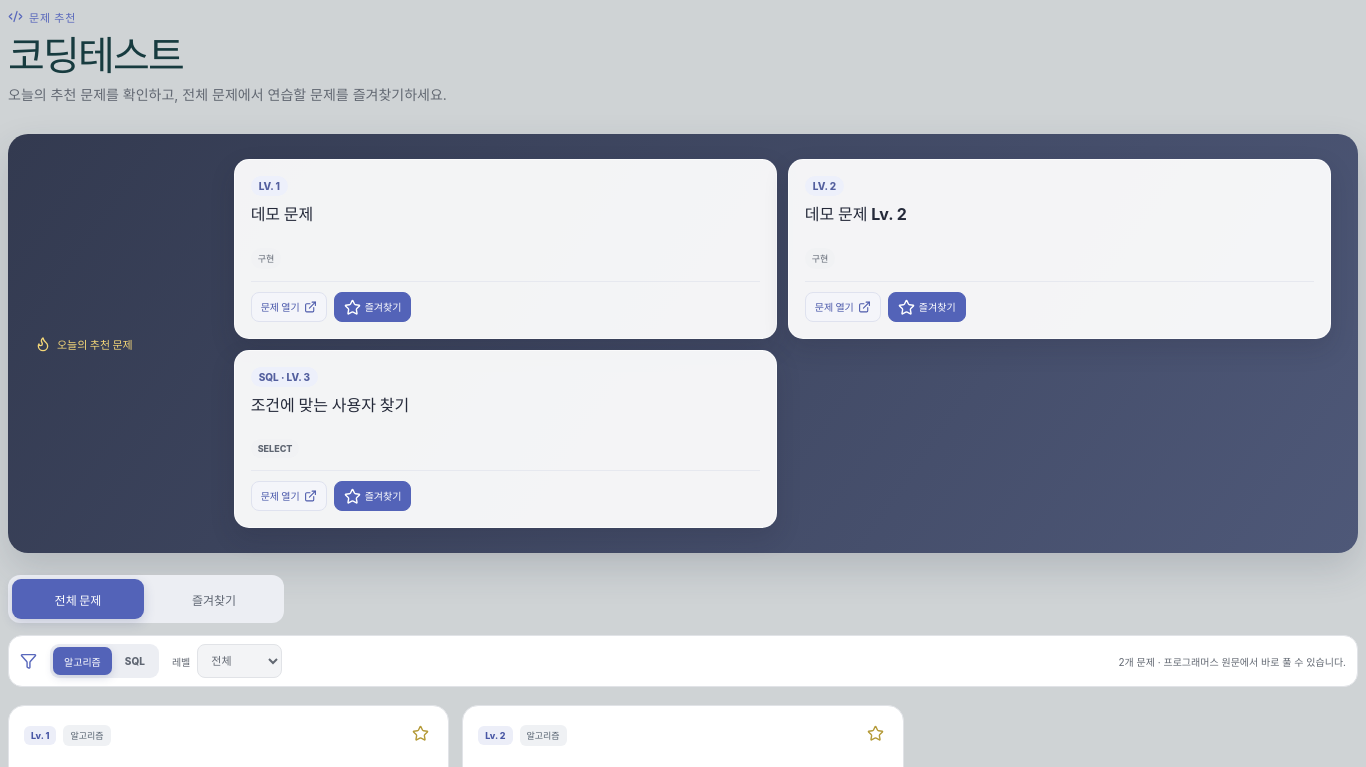
Test: CodingPage › offers only recommendations, the full catalog, and durable favorites
Check: the number of links "문제 열기" is 3, box [251, 292, 327, 322]; [805, 292, 881, 322]; [251, 481, 327, 511]
Check: the number of buttons "즐겨찾기" is 3, box [334, 292, 411, 322]; [888, 292, 966, 322]; [334, 481, 411, 511]
Click the button named "데모 문제 즐겨찾기": (421, 736) [408, 721, 433, 750]
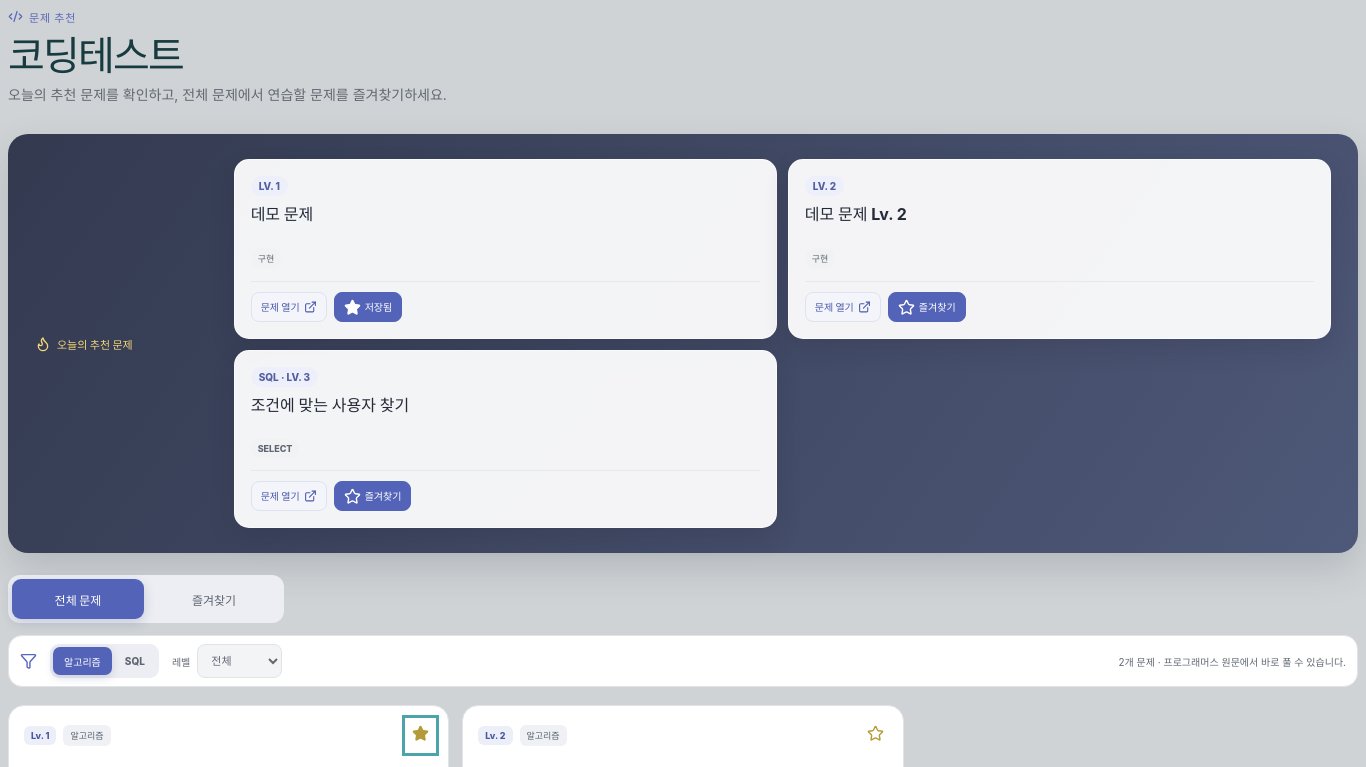
Click the 3rd button "즐겨찾기": (214, 599) [148, 579, 280, 619]
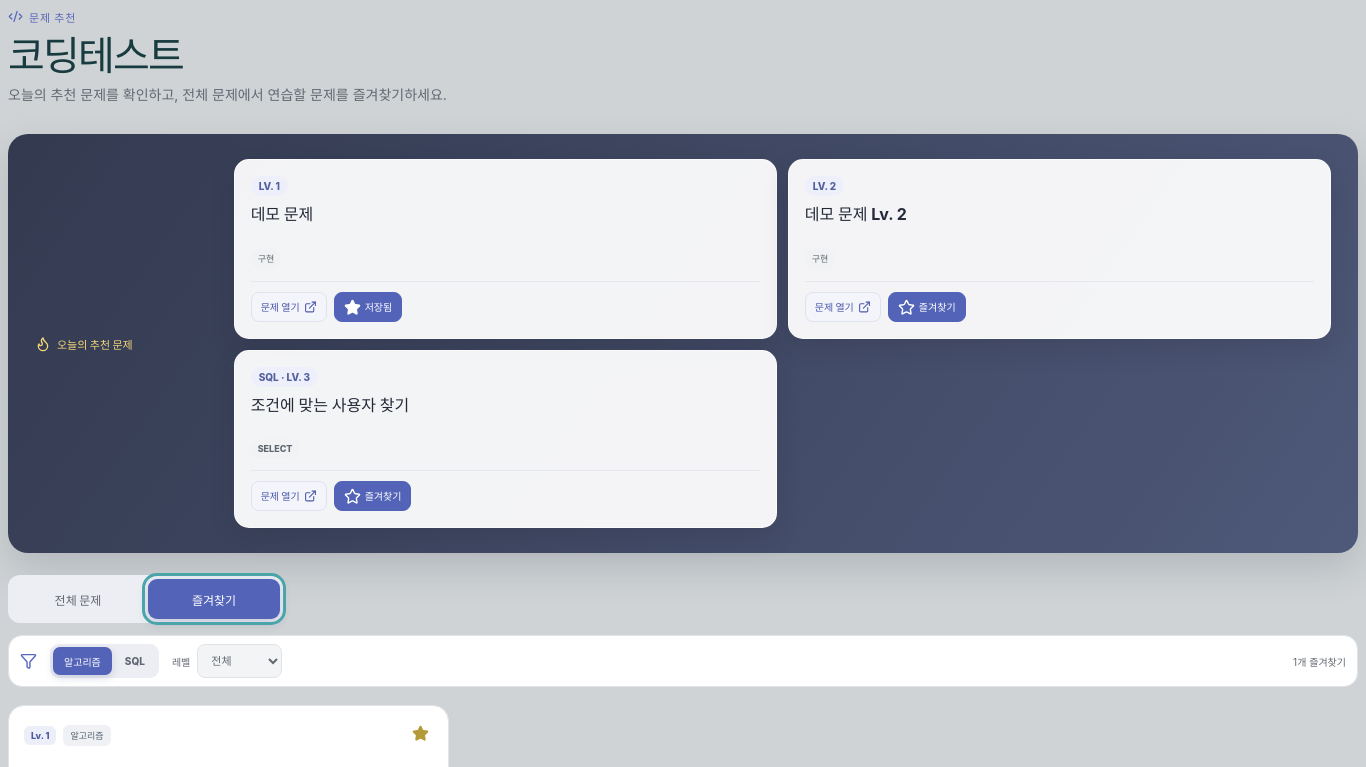
Click the button "전체 문제": (78, 599) [12, 579, 144, 619]
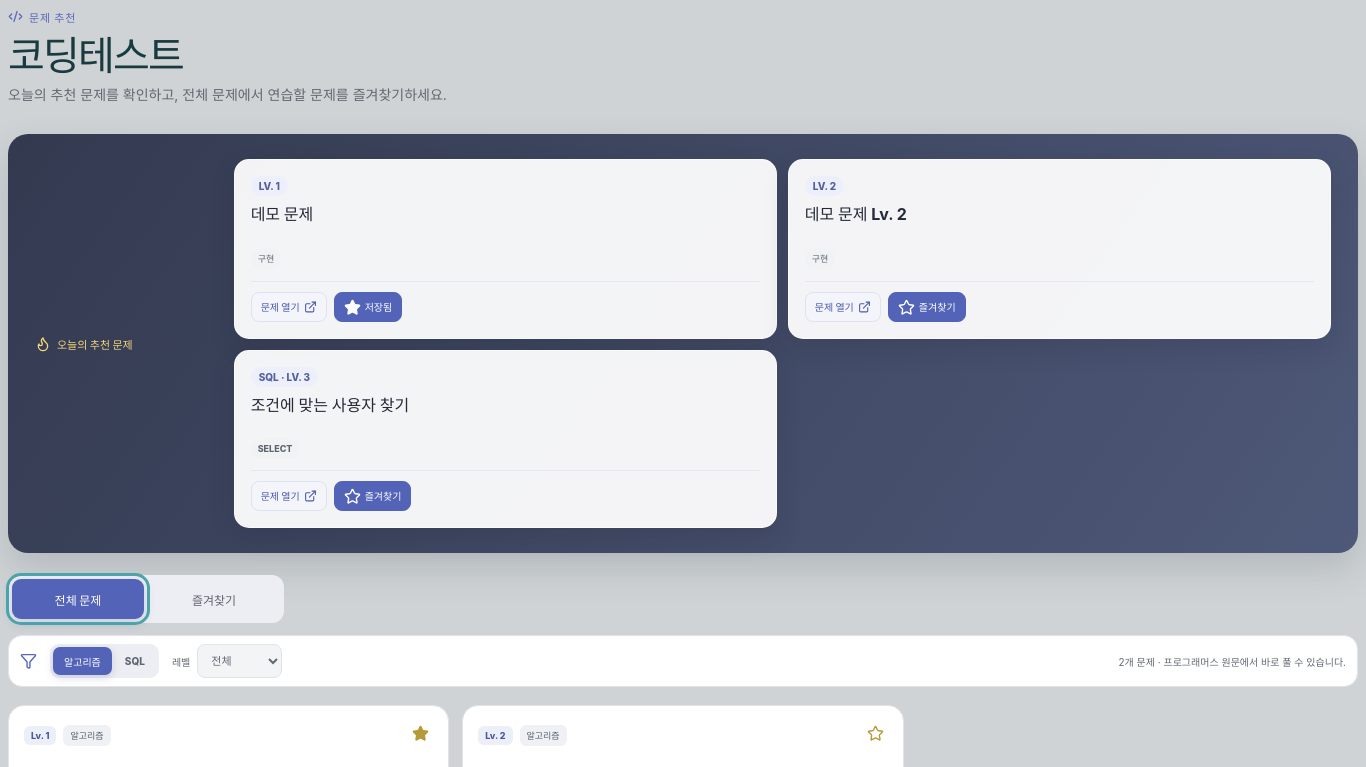
Click the button "SQL": (135, 661) [114, 647, 156, 675]
(page scrolled)
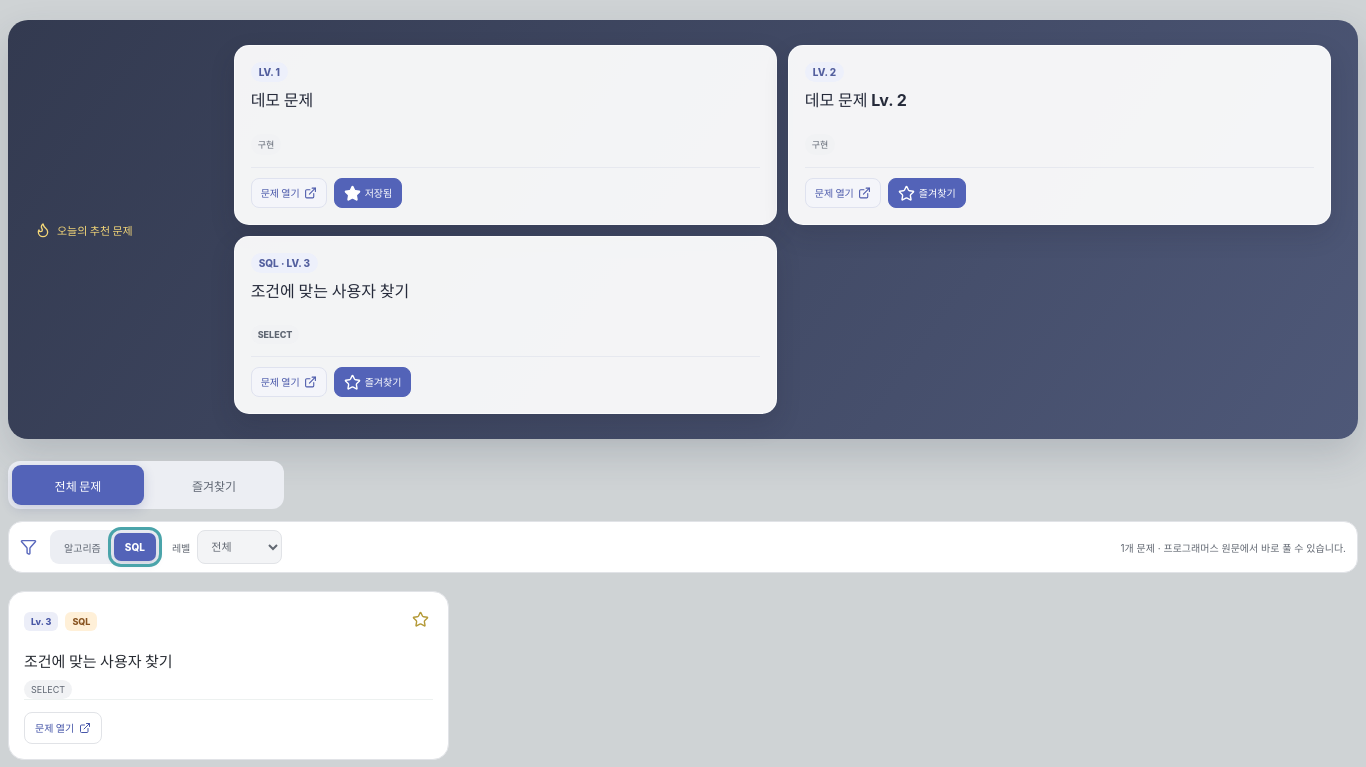
Check: the heading "조건에 맞는 사용자 찾기" is shown, box [24, 652, 173, 671]
